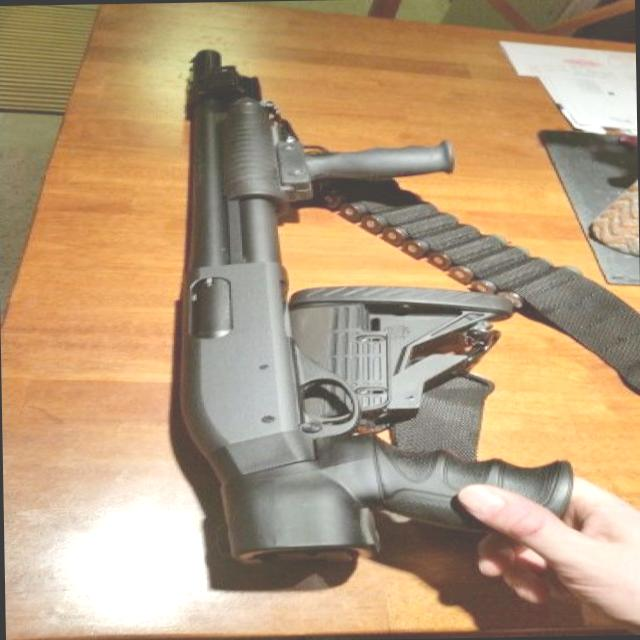shotgun: (119, 24, 617, 586)
